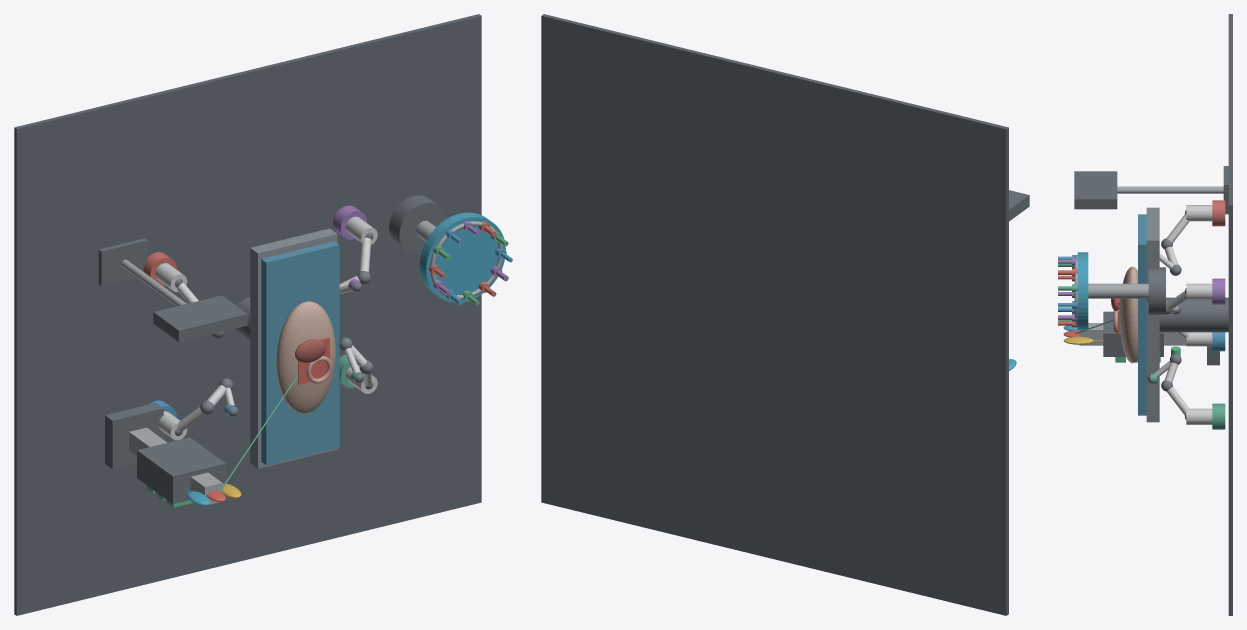
The model's file is dranmar_autonomous_rescue_or_hypoxemia_rescue.glb.
The picture shows the model from 3 angles, left to right: view 1: azimuth 30°, elevation 25°; view 2: azimuth 150°, elevation 25°; view 3: azimuth 270°, elevation 25°; orthographic projection. The views are drawn at different scales.
Visible parts, largest first — view 1: floor, mattress, carousel_rotor, patient_torso, table_base, pump_rack, monitor_body, resus_base, carousel_base, monitor_base, resus_column; view 2: floor; view 3: floor, table_base, table_column, monitor_body, mattress, patient_torso, carousel_column, carousel_rotor, pump_rack, carousel_base, monitor_pole, resus_column (+10 smaller).
Boxes of the visible parts, x1,y1,x2,y2 form: floor: [14, 14, 481, 615]; mattress: [261, 241, 339, 465]; carousel_rotor: [420, 212, 505, 302]; patient_torso: [276, 301, 335, 413]; table_base: [250, 228, 337, 468]; pump_rack: [137, 437, 225, 503]; monitor_body: [153, 295, 247, 342]; resus_base: [105, 403, 163, 469]; carousel_base: [389, 195, 447, 255]; monitor_base: [98, 238, 147, 286]; resus_column: [129, 427, 222, 504]; floor: [541, 14, 1008, 615]; floor: [1228, 14, 1232, 615]; table_base: [1146, 207, 1159, 422]; table_column: [1159, 297, 1228, 332]; monitor_body: [1074, 171, 1117, 209]; mattress: [1138, 214, 1146, 415]; patient_torso: [1119, 266, 1137, 363]; carousel_column: [1088, 283, 1148, 298]; carousel_rotor: [1077, 252, 1088, 329]; pump_rack: [1103, 311, 1163, 356]; carousel_base: [1148, 267, 1165, 314]; monitor_pole: [1117, 186, 1223, 193]; resus_column: [1079, 323, 1186, 345].
Bounding box in the file's own units: 4.2 × 4.2 × 1.62.
